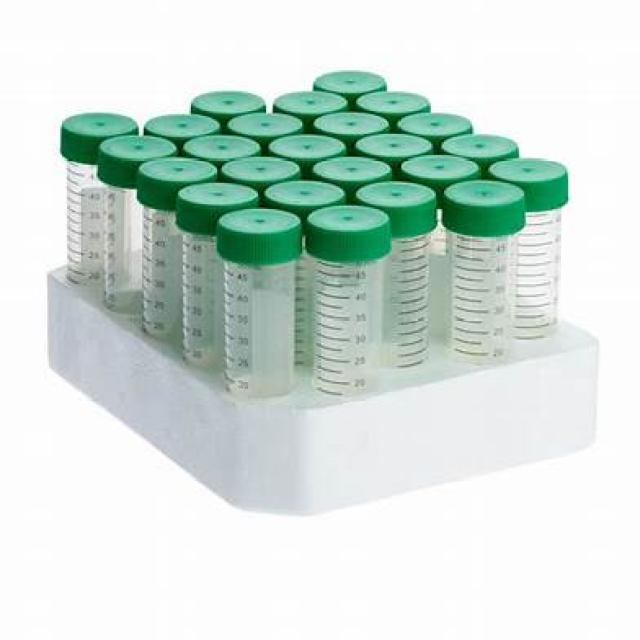vial: (444, 177, 519, 210), (496, 157, 568, 188), (316, 157, 391, 182), (267, 181, 338, 205), (447, 133, 512, 159), (200, 89, 270, 113), (227, 212, 299, 235), (360, 134, 423, 160), (316, 207, 386, 230), (104, 138, 176, 160), (152, 117, 225, 138), (362, 94, 432, 115), (232, 158, 294, 181), (149, 159, 216, 180), (183, 183, 249, 204), (323, 71, 380, 95), (406, 114, 470, 135), (282, 91, 344, 112), (275, 136, 339, 156), (408, 154, 466, 176), (368, 184, 425, 206), (240, 116, 306, 135), (72, 114, 132, 134), (194, 140, 258, 158), (323, 112, 380, 131)
